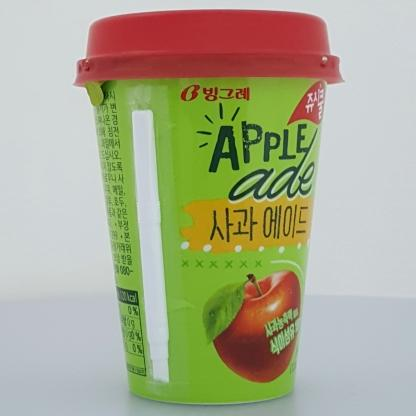--------: (72, 10, 345, 404)
